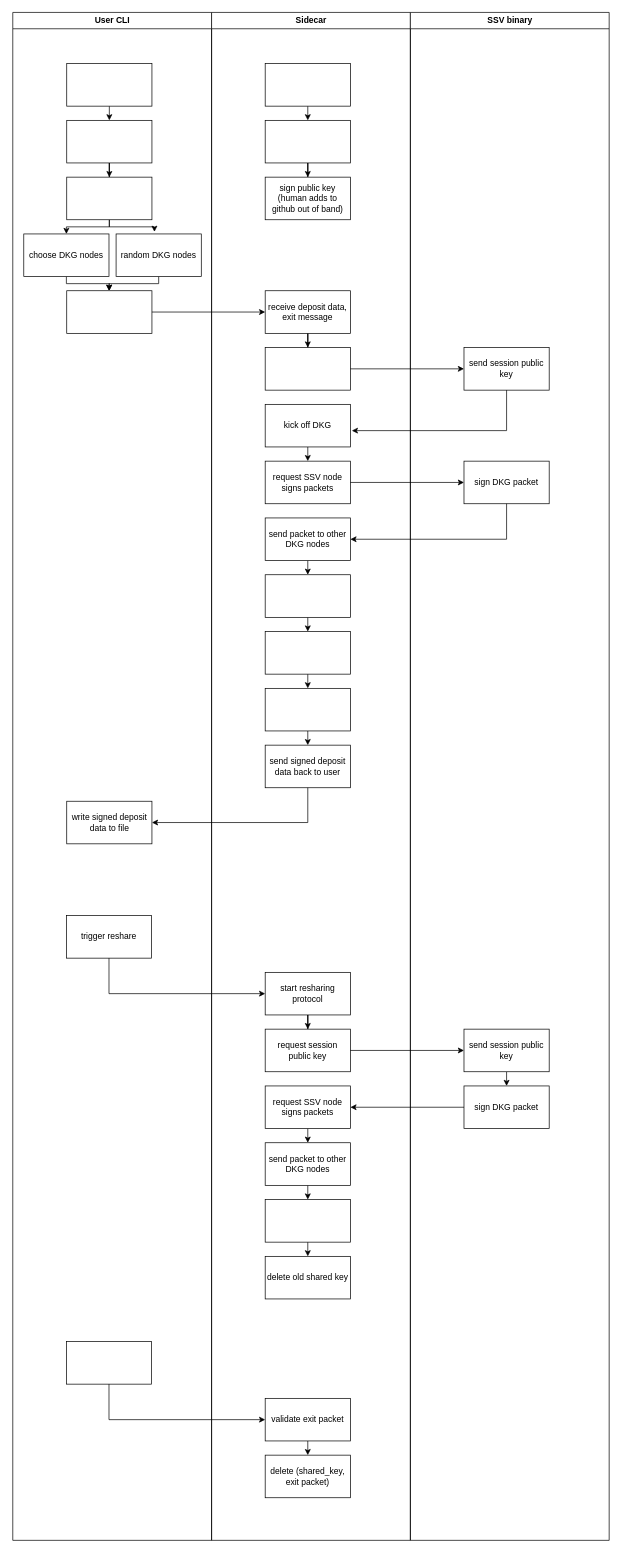
Image size: 621x1553. Some labels were removed from this diagram. Here are the shapes that lost their labels. From the top down, the centre of each, then its label:
pixel 109 84: Initialise with ethereum deposit details
pixel 307 84: startup + keygen
pixel 109 141: choose group size
pixel 307 141: heartbeat SSV node
pixel 109 198: list DKG nodes
pixel 109 311: send deposit data to DKG nodes
pixel 307 368: send exchange message
pixel 307 595: store (shared key, exit message, pk_user)
pixel 307 652: gossip partially signed deposit data
pixel 307 709: aggregate fully signed deposit data
pixel 307 1220: store shared key
pixel 109 1362: send exit packet
